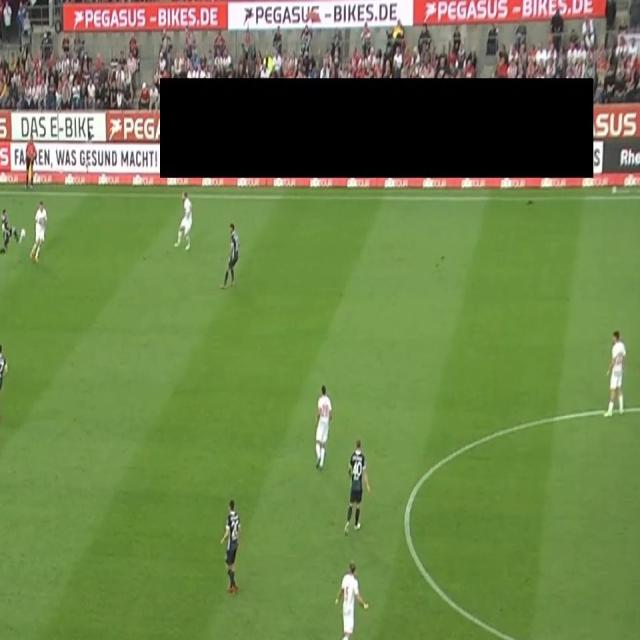ball: (20, 227, 26, 240)
